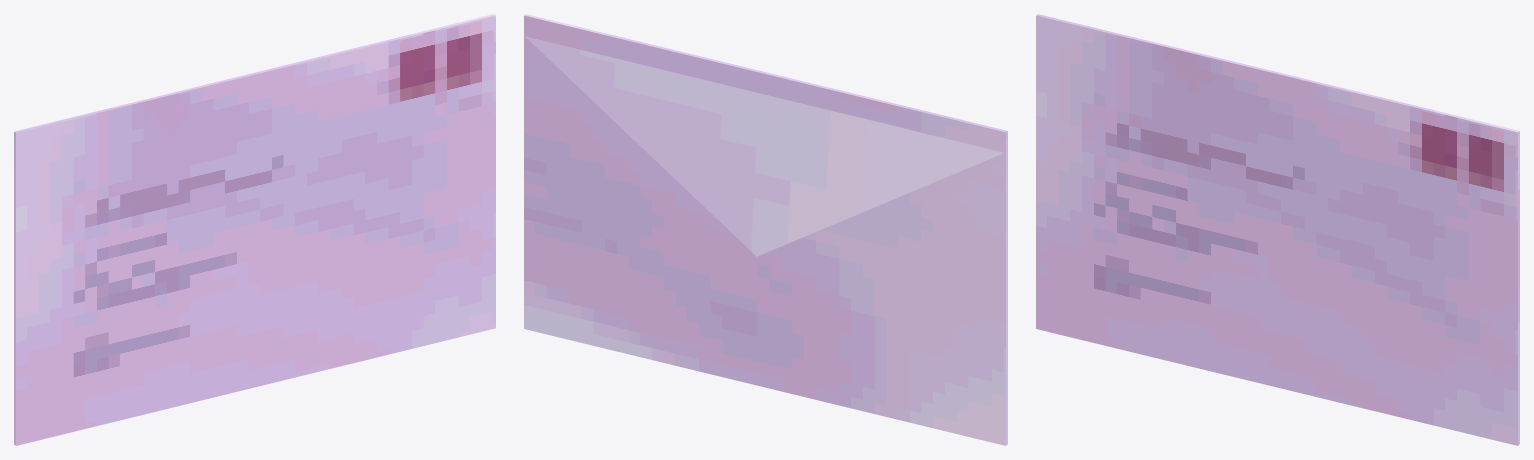
File: carta.glb
The picture shows the model from 3 angles, left to right: view 1: azimuth 30°, elevation 25°; view 2: azimuth 150°, elevation 25°; view 3: azimuth 330°, elevation 25°; orthographic projection.
Parts seen in each view (by area): view 1: Carta; view 2: Carta; view 3: Carta.
Boxes of the visible parts, left/top/right/bottom form: Carta: left=14, top=14, right=495, bottom=445; Carta: left=524, top=14, right=1007, bottom=445; Carta: left=1036, top=14, right=1519, bottom=445.
Size of the model in its own units: 0.3719 by 0.2315 by 0.0141.
Materials: 1 (1 with a texture image).
